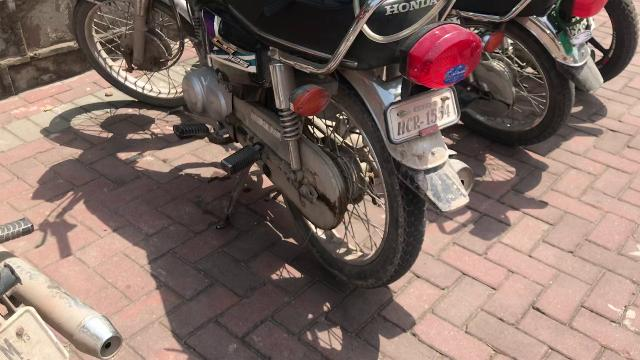plate: (388, 87, 459, 144)
